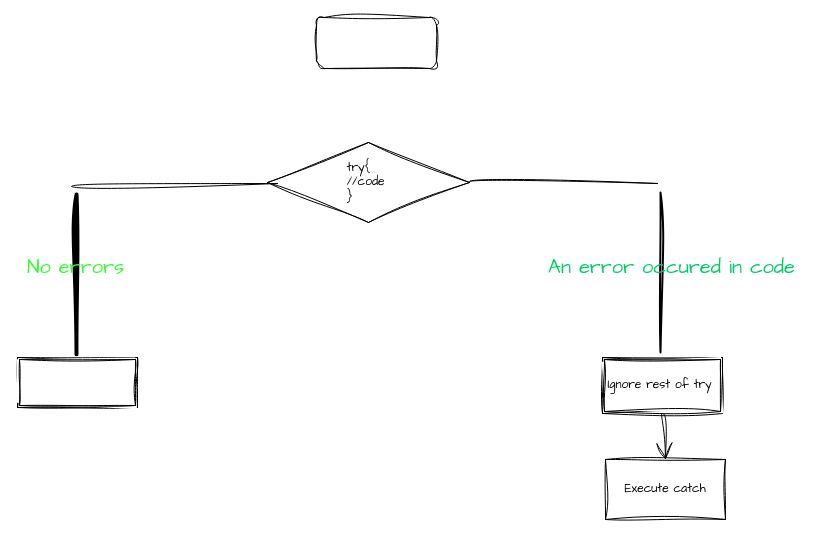
Image size: 821x537. Some labels were removed from this diagram. The shapes that lost their labels are listed below. From the top down, each one's box as (x1, y1, x2, y2) in pixels, then its label:
(316, 16, 436, 68): Begin
(16, 356, 138, 408): ignore the catch block
